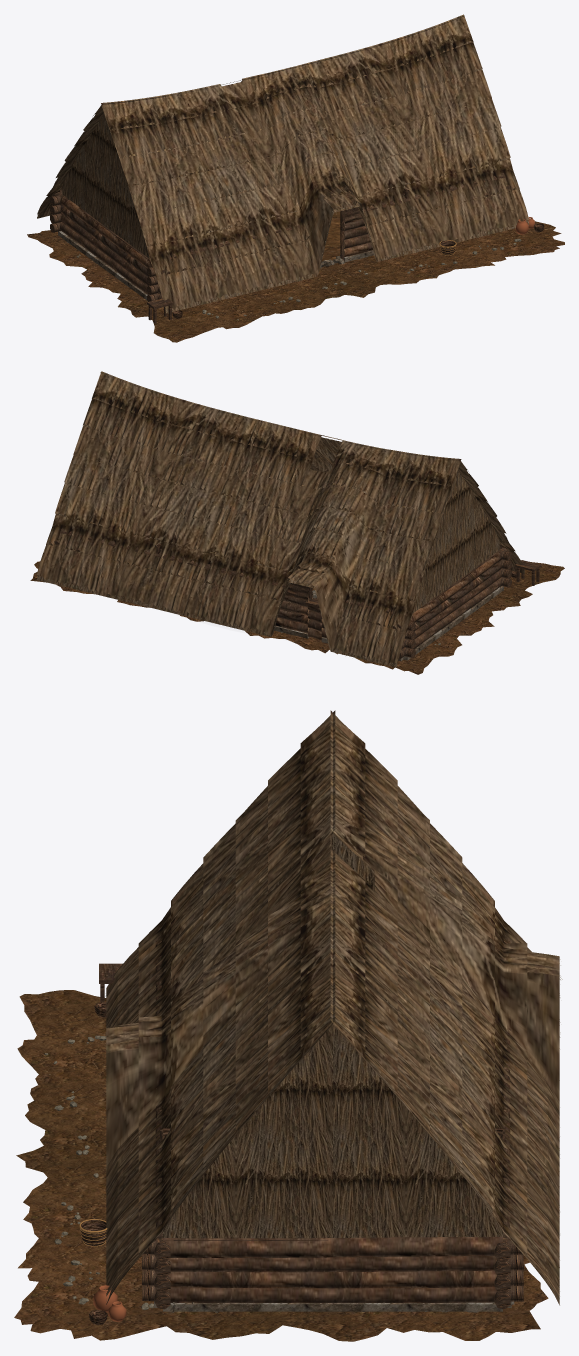
Rendered from hall.glb.
3 renders of one model, top to bottom at view 1: azimuth 30°, elevation 25°; view 2: azimuth 150°, elevation 25°; view 3: azimuth 270°, elevation 25°, orthographic. The views are drawn at different scales.
Visible parts, largest first — view 1: part_16, part_1, part_4, part_5, part_0; view 2: part_16, part_4, part_1, part_5; view 3: part_16, part_1, part_4, part_5, part_7, part_2.
Part boxes in pixels (bbox=[...]): part_16: bbox=[37, 14, 528, 313]; part_1: bbox=[27, 221, 564, 342]; part_4: bbox=[50, 173, 513, 323]; part_5: bbox=[58, 231, 374, 300]; part_0: bbox=[321, 211, 340, 261]; part_16: bbox=[36, 371, 524, 667]; part_4: bbox=[52, 470, 541, 659]; part_1: bbox=[30, 561, 564, 674]; part_5: bbox=[274, 586, 503, 661]; part_16: bbox=[106, 710, 559, 1305]; part_1: bbox=[14, 990, 548, 1341]; part_4: bbox=[99, 938, 523, 1309]; part_5: bbox=[154, 1301, 514, 1313]; part_7: bbox=[80, 1001, 502, 1325]; part_2: bbox=[44, 1035, 153, 1310].
Size of the model in its own units: 9.71 by 3.88 by 6.39.
Materials: 17 (9 with a texture image).
